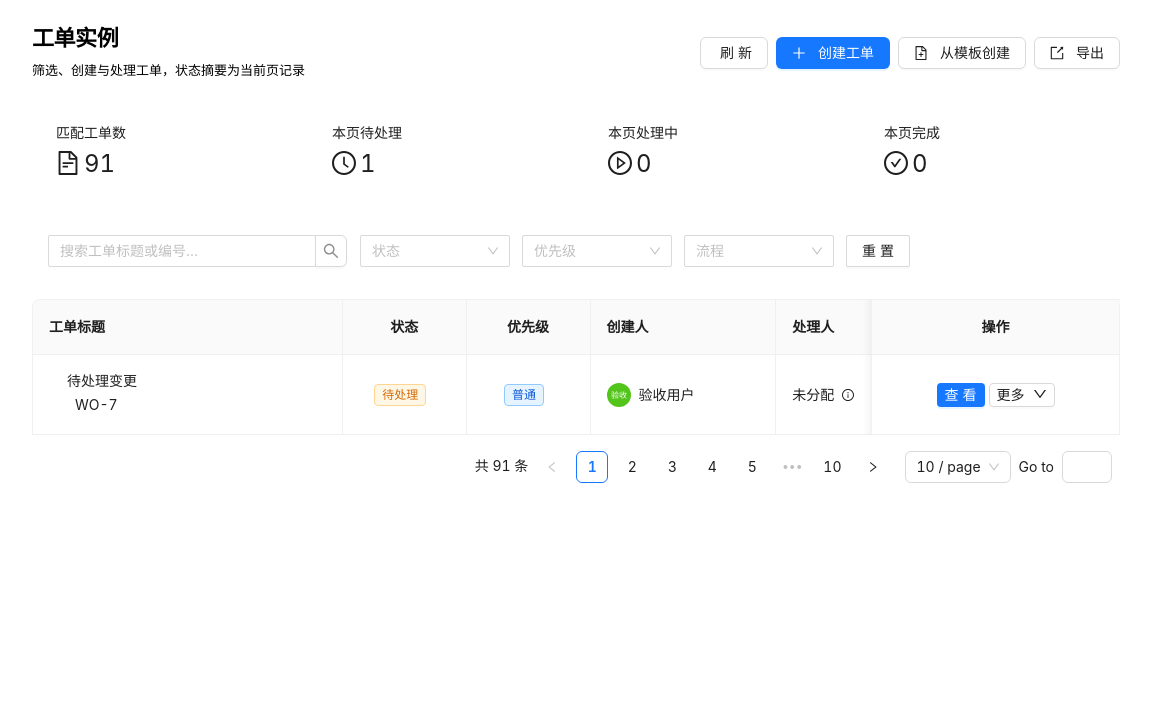
Test case: 工单实例真实控件 › 查询失败清除旧列表，并从可见错误恢复
Click the button without text in the row of "流程". click: (331, 251)
box: [315,235,347,267]
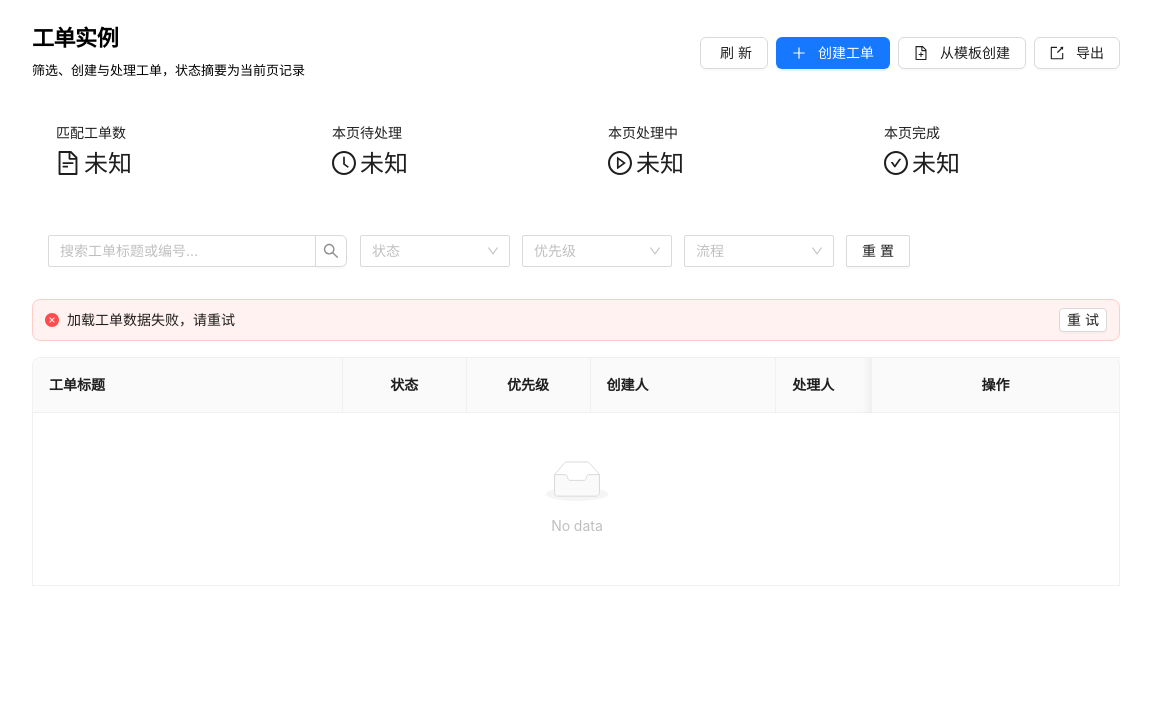
Expected: the message with class "list-error" shows "加载工单数据失败", [67,311,235,328]
Click the button "重 试". click: (1083, 320)
box: [1059,308,1107,332]
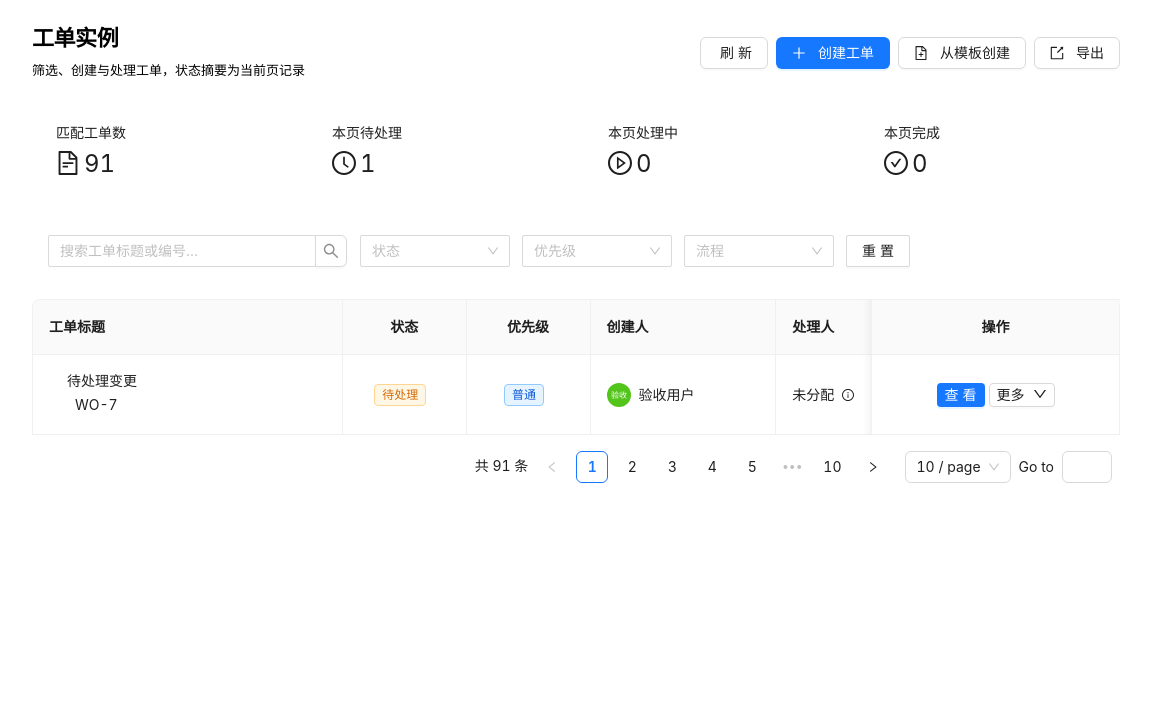
Expected: the text with class "title-text" reads "待处理变更", [67,372,137,389]
